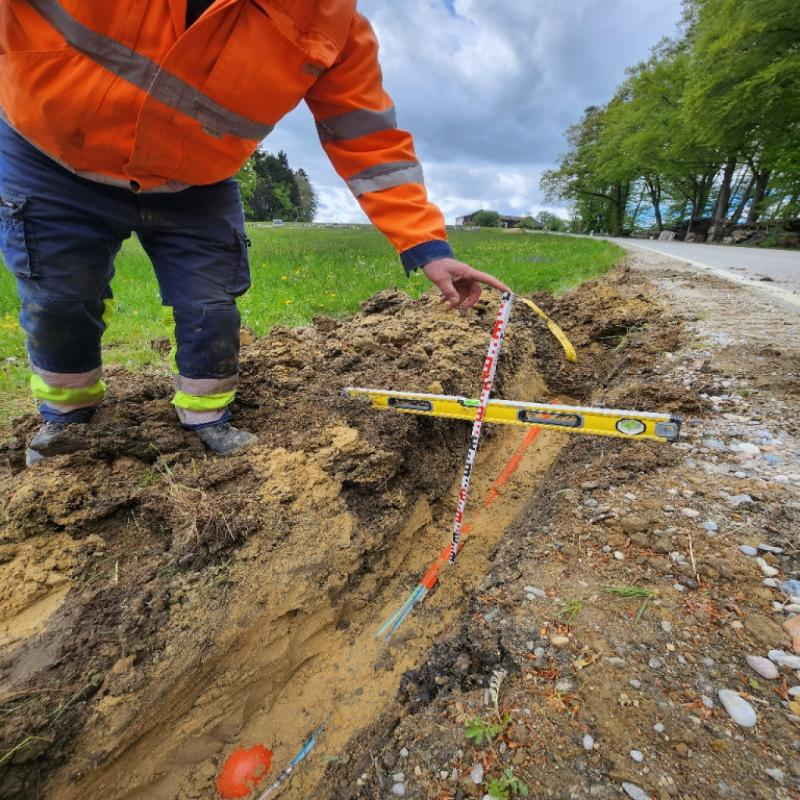Kugelmarker: (216, 746, 270, 798)
Orang-Speednetrohrchen: (411, 428, 539, 607)
